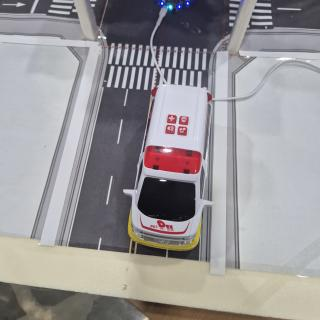Ambulance: (123, 84, 213, 250)
